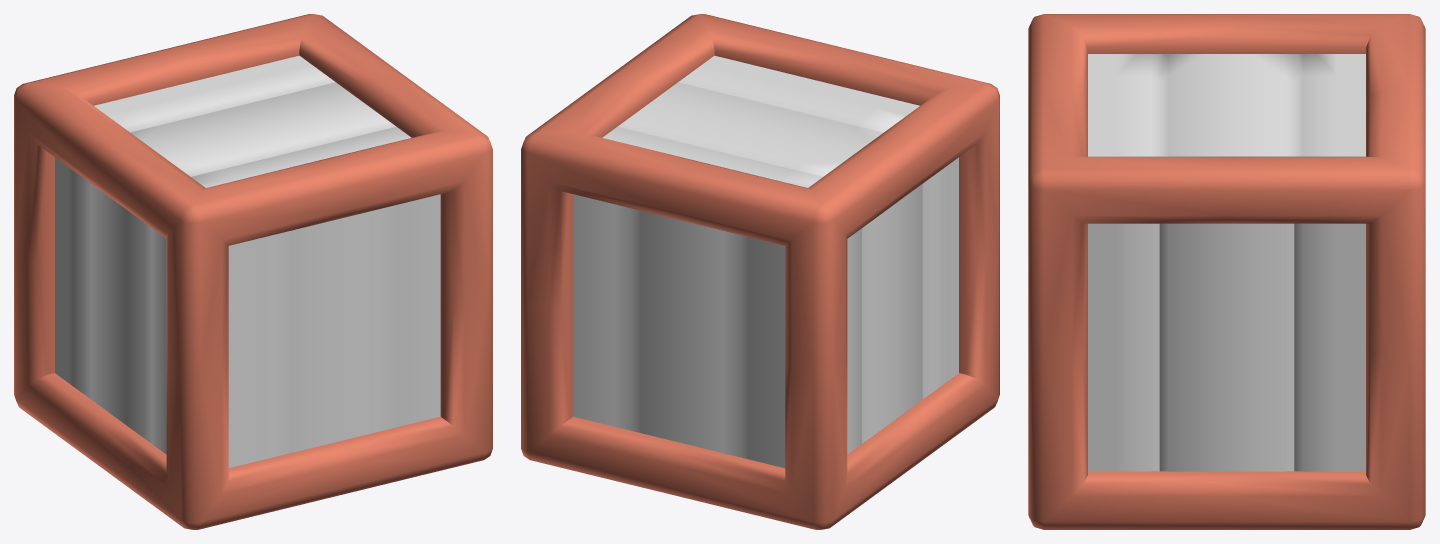
Rendered from wooden_box.fbx.
The picture shows the model from 3 angles, left to right: view 1: azimuth 30°, elevation 25°; view 2: azimuth 150°, elevation 25°; view 3: azimuth 270°, elevation 25°; orthographic projection. The views are drawn at different scales.
Parts seen in each view (by area): view 1: wooden_box; view 2: wooden_box; view 3: wooden_box.
Boxes of the visible parts, <box> form: wooden_box: <box>14,14,492,529</box>; wooden_box: <box>521,14,999,529</box>; wooden_box: <box>1028,14,1425,529</box>.
Size of the model in its own units: 2 by 2 by 2.
